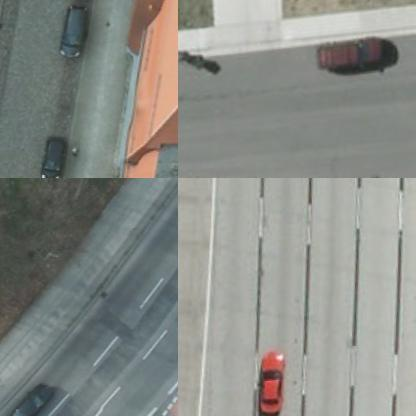car: (250, 351, 296, 415), (314, 36, 393, 70), (1, 379, 61, 415), (33, 136, 83, 177)
van: (57, 9, 85, 58)
